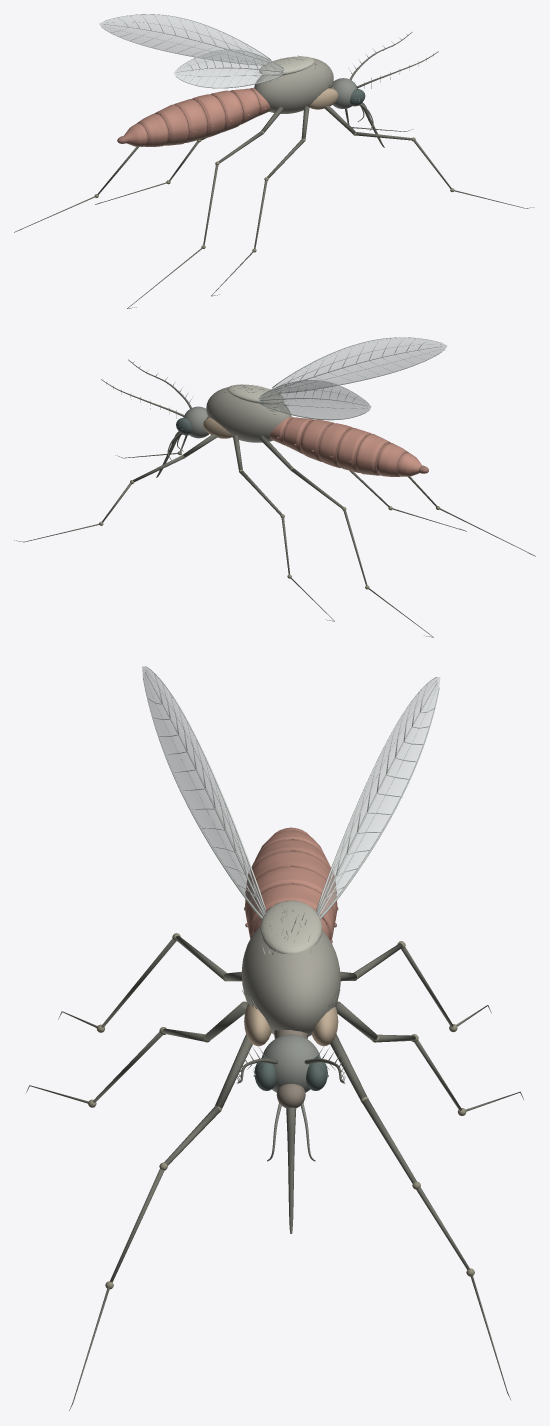
Rendered from mosquito_reference.gltf.
3 views of the same model, one above another, from view 1: azimuth 30°, elevation 25°; view 2: azimuth 150°, elevation 25°; view 3: azimuth 270°, elevation 25° (orthographic). The views are drawn at different scales.
Parts seen in each view (by area): view 1: Abdomen_Main_abdomen, Wing_Right_Membrane_wing, Wing_Left_Membrane_wing, Thorax_Main_thorax, Wing_Right_Veins_wingfine, Thorax_Dorsal_Patch_thoraxlight, Leg_Left_Hind_legs, Leg_Left_Front_legs, Wing_Left_Veins_wingfine, Leg_Left_Middle_legs, Head_Main_head, Wing_Right_Veins_wingvein (+2 smaller); view 2: Abdomen_Main_abdomen, Wing_Left_Membrane_wing, Wing_Right_Membrane_wing, Thorax_Main_thorax, Wing_Left_Veins_wingfine, Leg_Right_Hind_legs, Thorax_Dorsal_Patch_thoraxlight, Wing_Right_Veins_wingfine, Leg_Right_Middle_legs, Leg_Right_Front_legs, Head_Main_head, Wing_Left_Veins_wingvein (+1 smaller); view 3: Thorax_Main_thorax, Wing_Left_Membrane_wing, Wing_Right_Membrane_wing, Abdomen_Main_abdomen, Thorax_Dorsal_Patch_thoraxlight, Wing_Left_Veins_wingfine, Leg_Left_Front_legs, Wing_Right_Veins_wingfine, Leg_Right_Front_legs, Head_Main_head, Thorax_Bronze_Flank_thoraxgold, Leg_Left_Middle_legs (+6 smaller).
Boxes of the visible parts, box(x1,y1,x2,y2) form: Abdomen_Main_abdomen: box(124, 87, 270, 146); Wing_Right_Membrane_wing: box(99, 14, 270, 63); Wing_Left_Membrane_wing: box(174, 50, 284, 87); Thorax_Main_thorax: box(254, 58, 333, 113); Wing_Right_Veins_wingfine: box(103, 14, 270, 63); Thorax_Dorsal_Patch_thoraxlight: box(259, 56, 315, 75); Leg_Left_Hind_legs: box(127, 106, 283, 308); Leg_Left_Front_legs: box(324, 105, 534, 208); Wing_Left_Veins_wingfine: box(176, 49, 283, 86); Leg_Left_Middle_legs: box(211, 106, 309, 296); Head_Main_head: box(332, 78, 357, 108); Wing_Right_Veins_wingvein: box(102, 24, 269, 65); Abdomen_Main_abdomen: box(270, 416, 422, 476); Wing_Left_Membrane_wing: box(271, 337, 447, 392); Wing_Right_Membrane_wing: box(258, 380, 371, 419); Thorax_Main_thorax: box(206, 387, 291, 442); Wing_Left_Veins_wingfine: box(272, 337, 442, 391); Leg_Right_Hind_legs: box(259, 435, 433, 637); Thorax_Dorsal_Patch_thoraxlight: box(227, 384, 283, 404); Wing_Right_Veins_wingfine: box(259, 380, 367, 417); Leg_Right_Middle_legs: box(233, 435, 334, 621); Leg_Right_Front_legs: box(14, 434, 217, 542); Head_Main_head: box(183, 406, 208, 438); Wing_Left_Veins_wingvein: box(273, 346, 444, 393); Thorax_Main_thorax: box(242, 926, 340, 1036); Wing_Left_Membrane_wing: box(142, 666, 266, 916); Wing_Right_Membrane_wing: box(316, 677, 440, 916); Abdomen_Main_abdomen: box(245, 827, 337, 939); Thorax_Dorsal_Patch_thoraxlight: box(260, 900, 322, 954); Wing_Left_Veins_wingfine: box(144, 666, 265, 915); Leg_Left_Front_legs: box(69, 1034, 252, 1410); Wing_Right_Veins_wingfine: box(316, 677, 437, 915); Leg_Right_Front_legs: box(330, 1034, 511, 1400); Head_Main_head: box(261, 1034, 320, 1092); Thorax_Bronze_Flank_thoraxgold: box(244, 1003, 338, 1046); Leg_Left_Middle_legs: box(25, 1001, 247, 1103).
Size of the model in its own units: 4.46 by 2.15 by 2.31.
